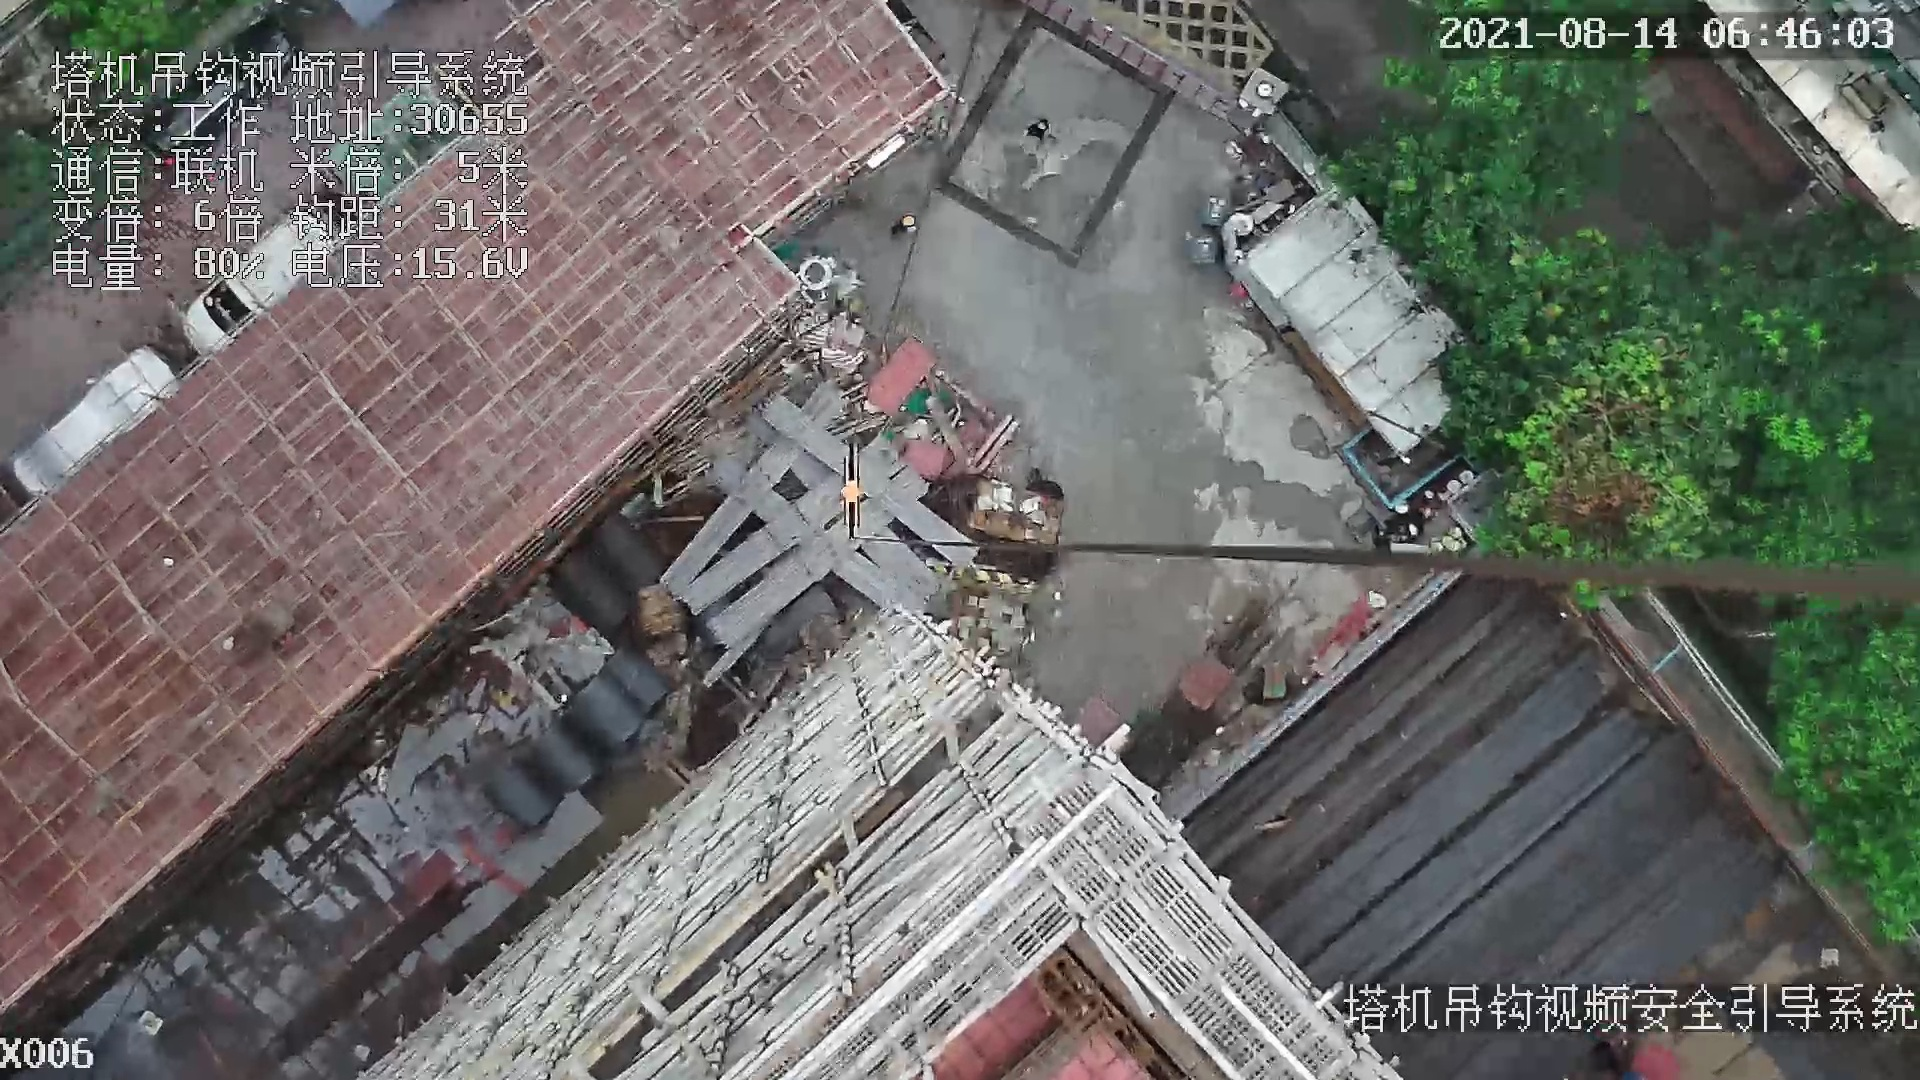helmet: (902, 216, 916, 225)
hook: (836, 444, 872, 540)
person: (1021, 113, 1054, 156), (886, 213, 921, 243)
